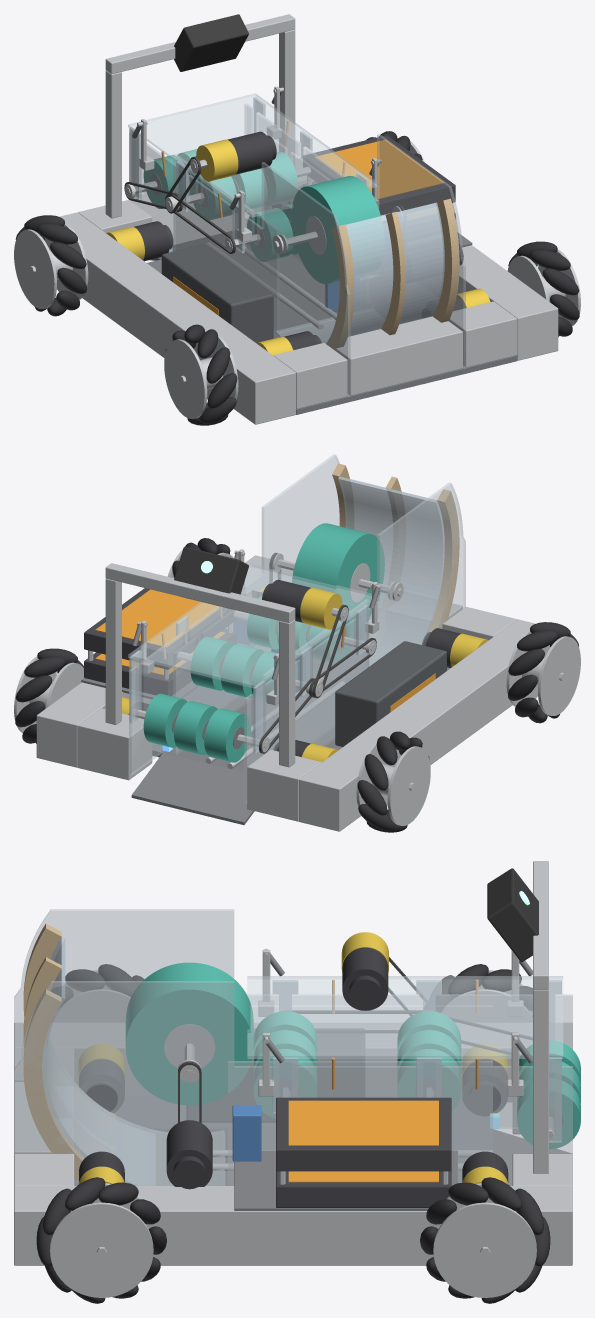
The model's file is revA_anim.glb.
3 views of the same model, one above another, from view 1: azimuth 30°, elevation 25°; view 2: azimuth 150°, elevation 25°; view 3: azimuth 270°, elevation 25° (orthographic). The views are drawn at different scales.
Parts seen in each view (by area): view 1: Side plate L, Frame rail L, Lid plate, Hood R4.5 (fixed), Rear crossmember centre, Flywheel 4in 35A, Side plate R, Battery 12V, Channel wall L, Belly pan, Frame rail R, Expansion Hub label (+34 smaller); view 2: Side plate L, Frame rail L, Lid plate, Side plate R, Hood R4.5 (fixed), Battery 12V, Entry lip, Flywheel 4in 35A, Belly pan, Channel wall L, Frame rail R, Front stub R (+42 smaller); view 3: Side plate R, Side plate L, Lid plate, Frame rail R, Flywheel 4in 35A, Channel wall R, Hood R4.5 (fixed), Channel wall L, Mecanum FR side plate.001, Mecanum RR side plate.001, Frame rail L, Expansion Hub label (+53 smaller).
Boxes of the visible parts, x1,y1,x2,y2 form: Side plate L: (129, 133, 350, 396); Frame rail L: (44, 212, 295, 424); Lid plate: (128, 93, 378, 217); Hood R4.5 (fixed): (275, 202, 444, 343); Rear crossmember centre: (328, 316, 462, 395); Flywheel 4in 35A: (291, 176, 384, 284); Side plate R: (244, 104, 465, 368); Battery 12V: (161, 244, 273, 342); Channel wall L: (173, 154, 279, 329); Belly pan: (147, 244, 517, 414); Frame rail R: (299, 158, 558, 360); Expansion Hub label: (315, 139, 444, 198); Side plate L: (244, 482, 465, 803); Frame rail L: (299, 619, 550, 831); Lid plate: (128, 564, 379, 688); Side plate R: (129, 454, 339, 775); Hood R4.5 (fixed): (338, 476, 444, 665); Battery 12V: (335, 641, 446, 746); Entry lip: (131, 753, 254, 824); Flywheel 4in 35A: (292, 523, 384, 630); Belly pan: (152, 645, 450, 772); Channel wall L: (263, 599, 369, 754); Frame rail R: (36, 555, 289, 767); Front stub R: (77, 708, 152, 780); Side plate R: (14, 981, 572, 1185); Side plate L: (14, 909, 572, 1128); Lid plate: (247, 976, 563, 1058); Frame rail R: (14, 1186, 572, 1265); Flywheel 4in 35A: (125, 962, 253, 1105); Channel wall R: (228, 1061, 492, 1185); Hood R4.5 (fixed): (42, 937, 224, 1185); Channel wall L: (250, 1005, 492, 1065); Mecanum FR side plate.001: (433, 1202, 536, 1297); Mecanum RR side plate.001: (50, 1202, 153, 1297); Frame rail L: (14, 1022, 572, 1101); Expansion Hub label: (288, 1100, 438, 1145).
Bounding box in the file's own units: 17.6 × 10.62 × 17.75.
